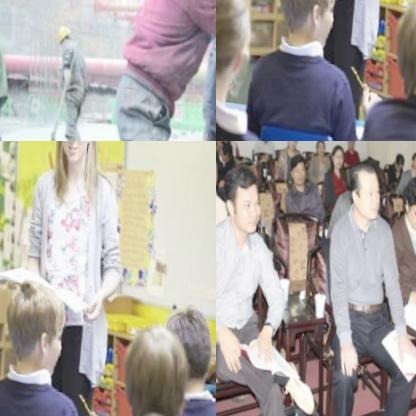head: (0, 263, 69, 382), (113, 315, 189, 416), (155, 291, 216, 390), (267, 0, 341, 54), (216, 0, 255, 94), (218, 162, 263, 237), (385, 0, 416, 102), (345, 159, 384, 217), (50, 141, 100, 170), (401, 174, 416, 228), (286, 150, 308, 184), (327, 141, 343, 166), (216, 141, 232, 162), (392, 147, 404, 170), (312, 141, 325, 154), (409, 146, 416, 167), (285, 141, 297, 149), (344, 141, 356, 149)
helmet: (54, 21, 75, 53)
